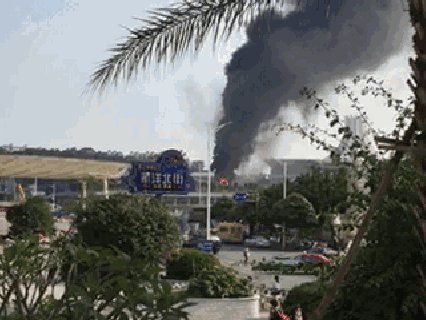smoke: (217, 8, 409, 110)
